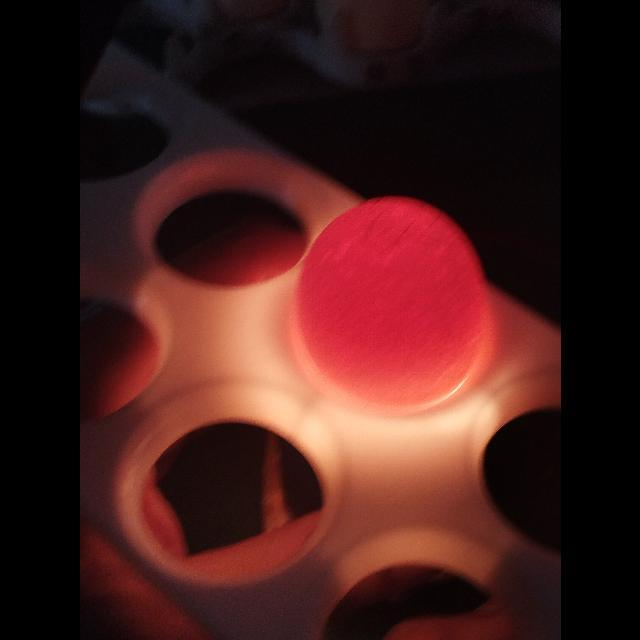Infertile: (292, 195, 490, 412)
